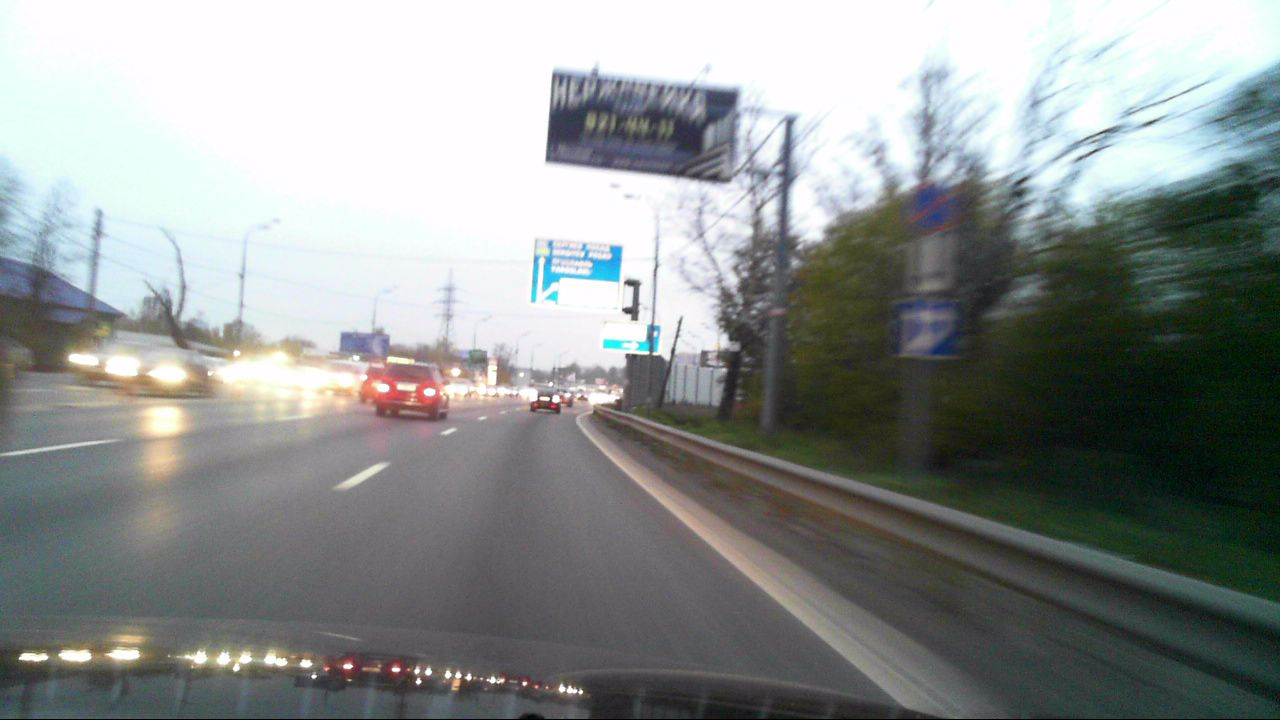No Parking: (904, 182, 960, 236)
